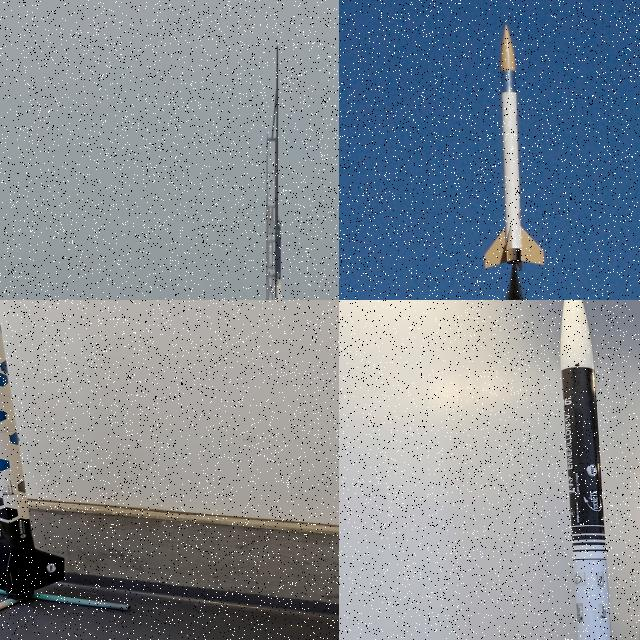Rocket: (0, 322, 65, 599), (560, 300, 612, 640), (483, 22, 547, 272), (270, 214, 288, 300)
